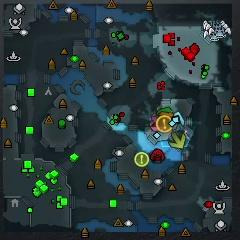Other: (157, 115, 172, 133)
x1: (151, 118, 160, 131)
x2: (170, 133, 185, 148)
x3: (174, 111, 185, 127)
x4: (157, 107, 172, 114)
x5: (158, 111, 173, 118)
